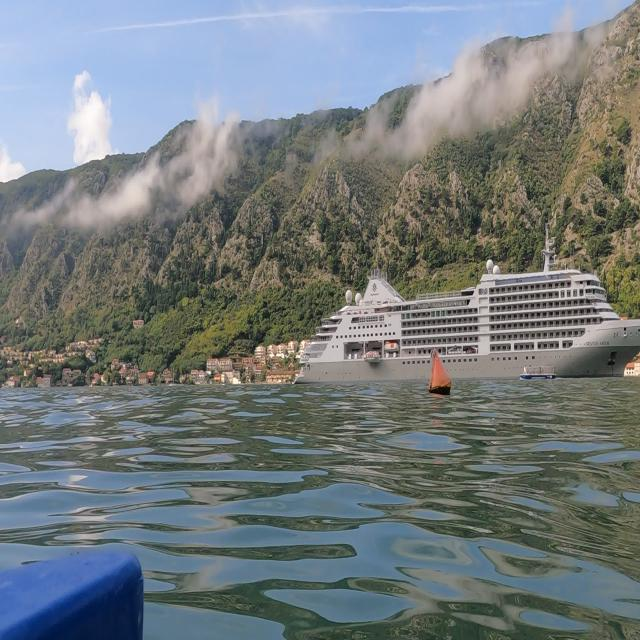boat: (292, 220, 638, 387)
